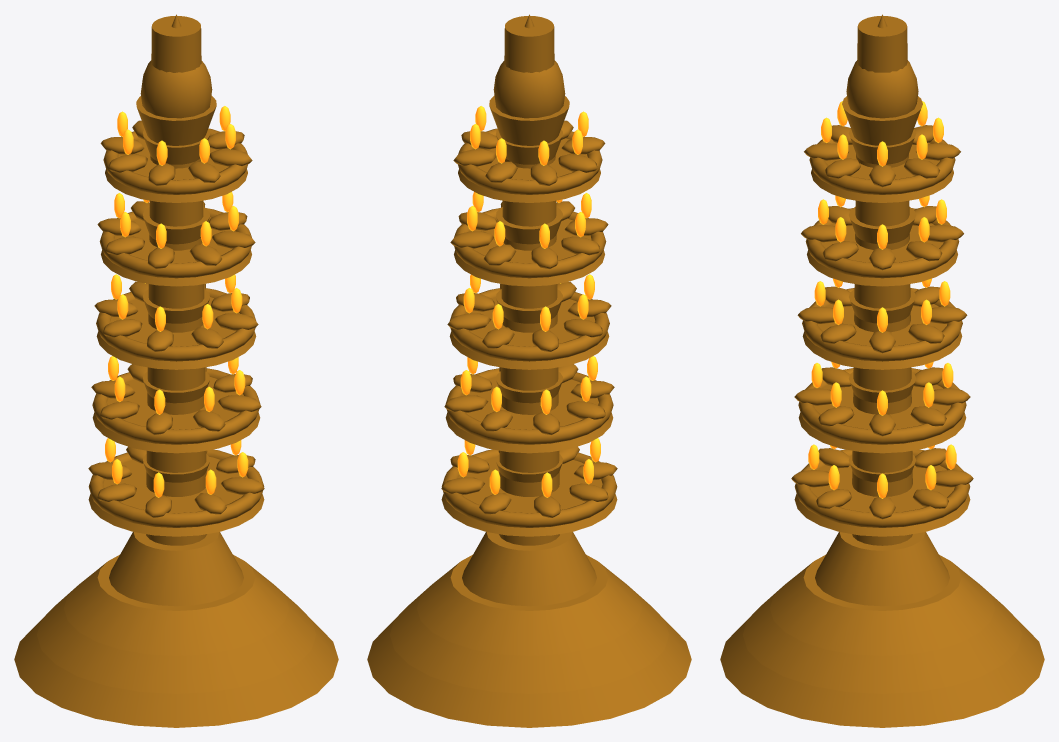
File: standing-brass-lamp.glb
The picture shows the model from 3 angles, left to right: view 1: azimuth 30°, elevation 25°; view 2: azimuth 150°, elevation 25°; view 3: azimuth 270°, elevation 25°; orthographic projection.
Bounding box in the file's own units: 1.44 × 3.16 × 1.44.
